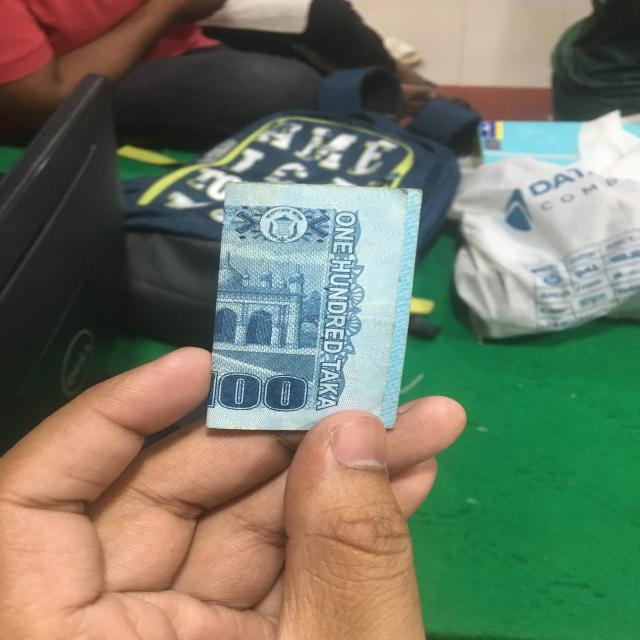Taka: (213, 183, 405, 427)
